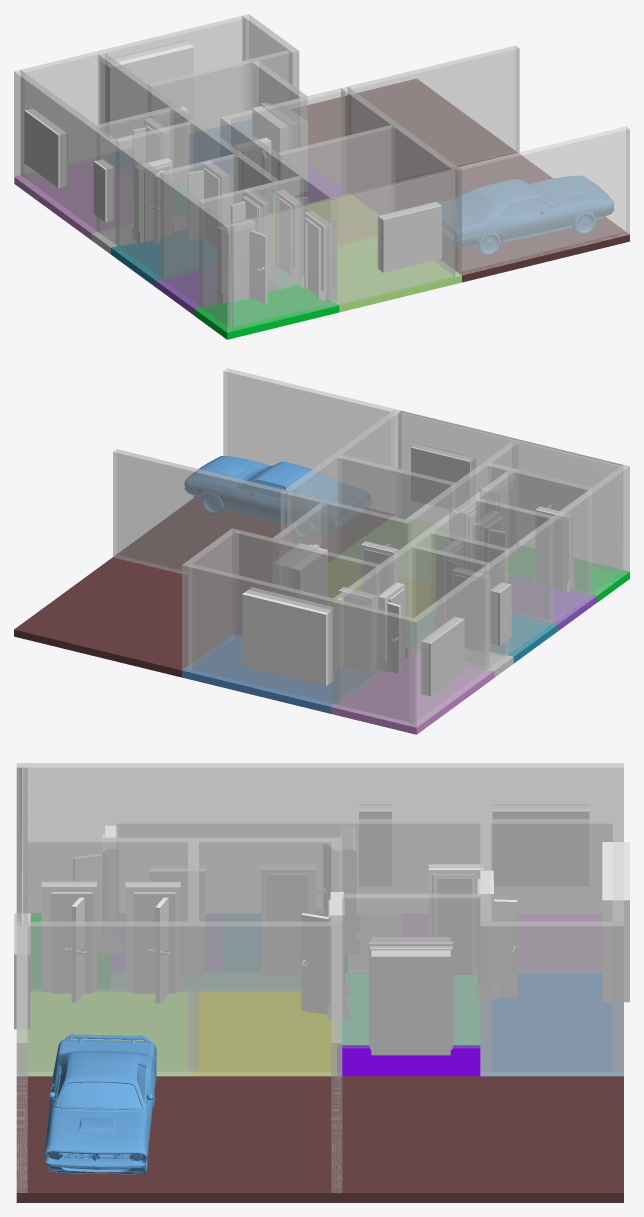
Rendered from Bambo_House.glb.
3 views of the same model, one above another, from view 1: azimuth 30°, elevation 25°; view 2: azimuth 150°, elevation 25°; view 3: azimuth 270°, elevation 25° (orthographic). The views are drawn at different scales.
Parts seen in each view (by area): view 1: tuong1, tuong16, tuong4, tuong17, tuong3, tuong2, tuong11, tuong5, CarBlue, tuong13, Santruoc, tuong6 (+26 smaller); view 2: tuong1, tuong3, tuong17, Santruoc, tuong4, tuong16, tuong5, tuong11, tuong2, CTRL_Hole.009, tuong13, tuong12 (+24 smaller); view 3: tuong1, tuong2, tuong5, Santruoc, tuong10, Sanoto, tuong15, CarBlue, tuong14, Phongnghenhin, Phongbep, Phongnguchinh (+40 smaller).
Part boxes in pixels (<box>): tuong1: <box>14,70,233,332</box>; tuong16: <box>230,169,455,330</box>; tuong4: <box>458,126,629,275</box>; tuong17: <box>348,45,519,179</box>; tuong3: <box>21,16,245,177</box>; tuong2: <box>341,86,461,276</box>; tuong11: <box>277,125,395,246</box>; tuong5: <box>98,53,279,213</box>; CarBlue: <box>455,176,614,254</box>; tuong13: <box>148,50,292,163</box>; Santruoc: <box>307,79,522,182</box>; tuong6: <box>199,176,303,307</box>; tuong1: <box>410,465,629,727</box>; tuong3: <box>188,564,413,725</box>; tuong17: <box>113,449,284,582</box>; Santruoc: <box>14,552,188,677</box>; tuong4: <box>223,368,394,479</box>; tuong16: <box>398,411,622,572</box>; tuong5: <box>333,471,514,704</box>; tuong11: <box>337,455,455,558</box>; tuong2: <box>280,409,401,553</box>; CTRL_Hole.009: <box>242,587,333,686</box>; tuong13: <box>235,530,379,639</box>; tuong12: <box>287,491,411,616</box>; tuong1: <box>16,763,623,916</box>; tuong2: <box>16,921,342,1076</box>; tuong5: <box>116,819,612,972</box>; Santruoc: <box>320,1076,623,1202</box>; tuong10: <box>27,837,331,991</box>; Sanoto: <box>16,1076,320,1202</box>; tuong15: <box>480,921,623,1076</box>; CarBlue: <box>44,1034,156,1174</box>; tuong14: <box>342,893,480,1047</box>; Phongnghenhin: <box>480,973,623,1075</box>; Phongbep: <box>193,992,331,1075</box>; Phongnguchinh: <box>27,992,192,1075</box>.
Size of the model in its own units: 12.05 by 3.2 by 11.16.
